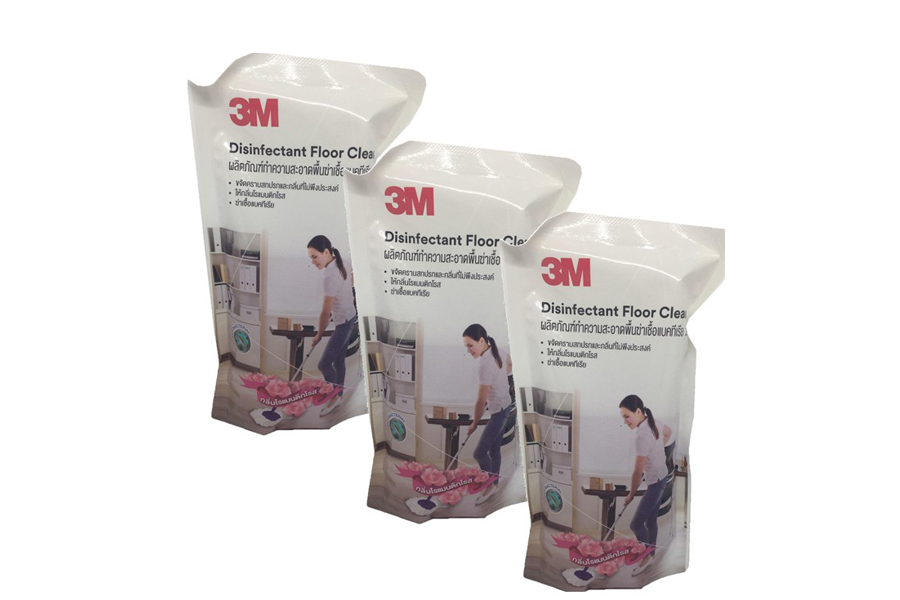Cleaning_solution: (181, 41, 431, 453), (339, 131, 592, 532), (492, 199, 735, 596)
